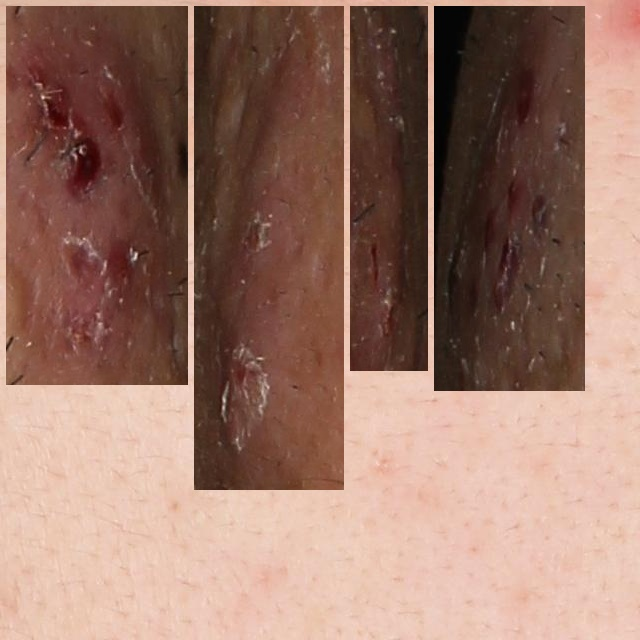nodule: (202, 14, 336, 482), (14, 14, 180, 377), (442, 14, 577, 383), (358, 14, 420, 363)
